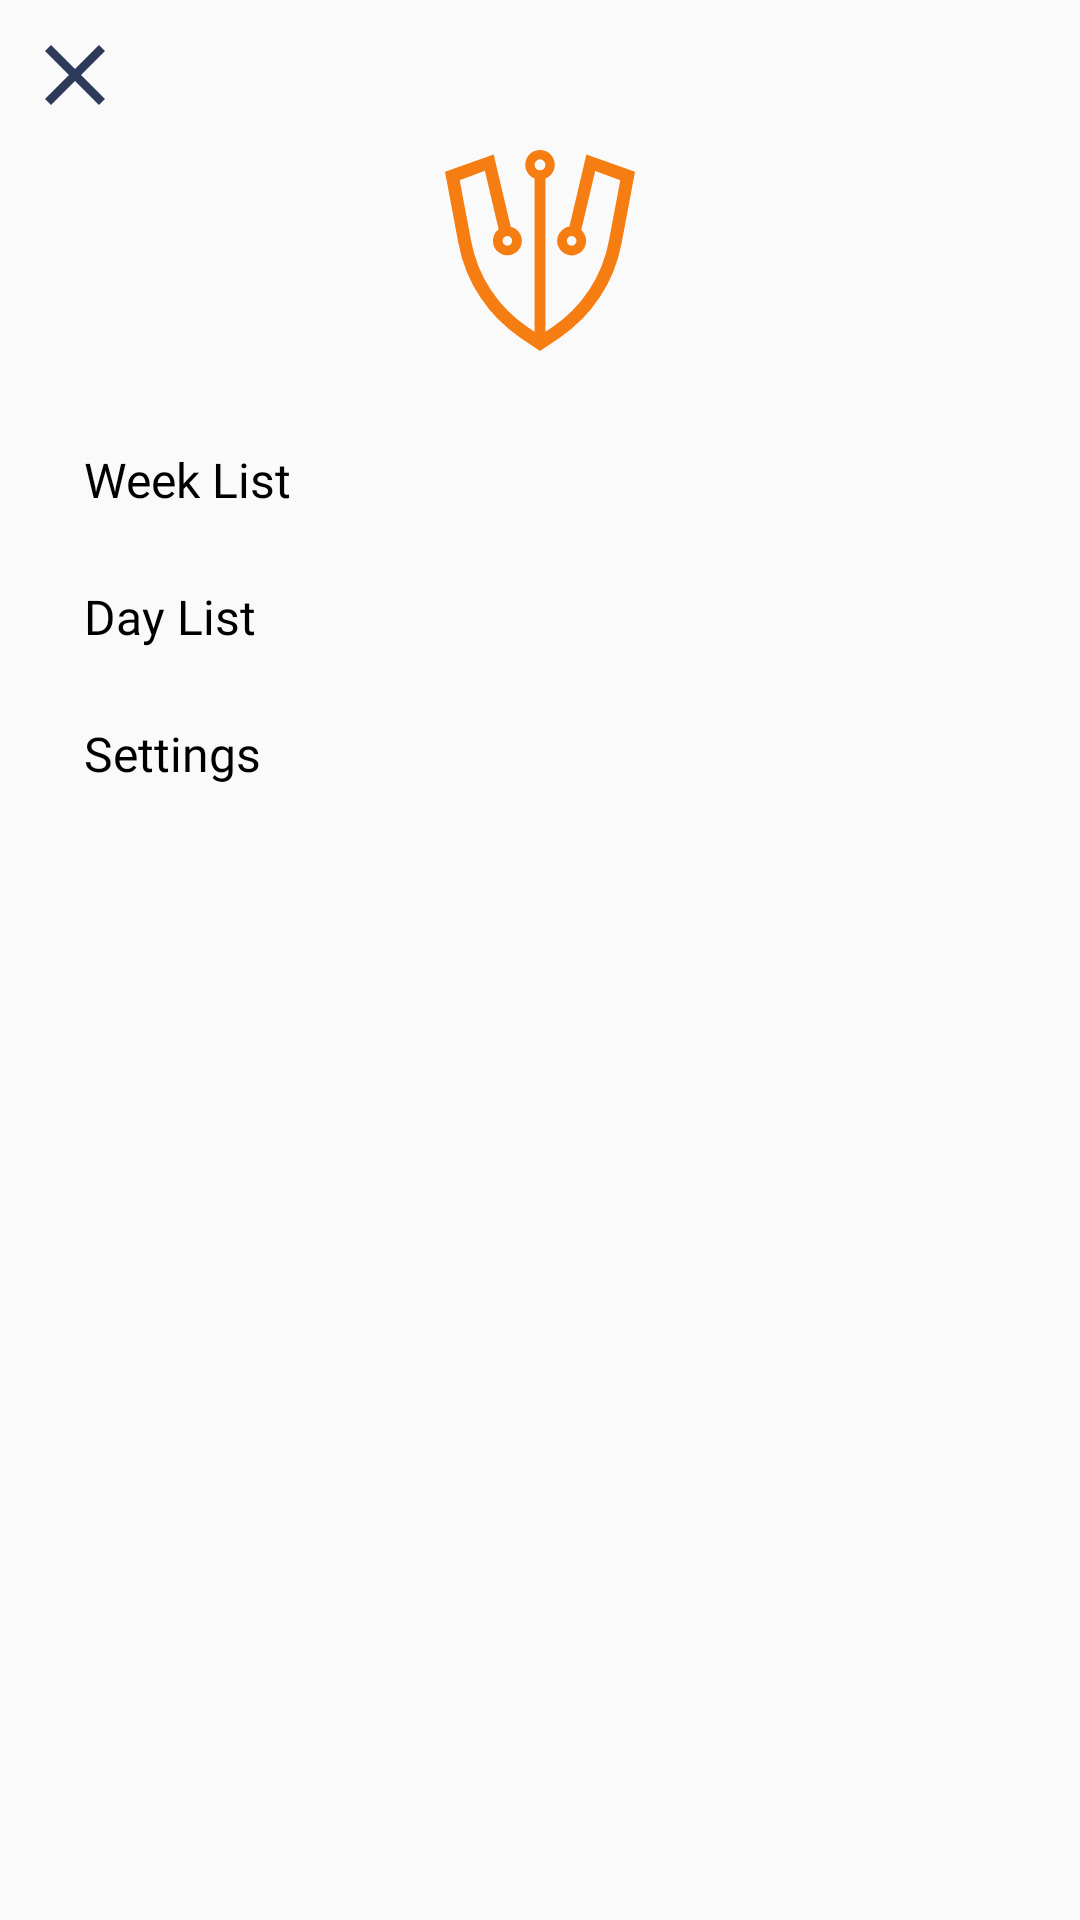

Icon click points for this 1080 x 1920 phone screenshot, format (x=x, y=y):
close menu: (x=75, y=75)
